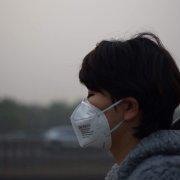OK: (73, 76, 147, 150)
